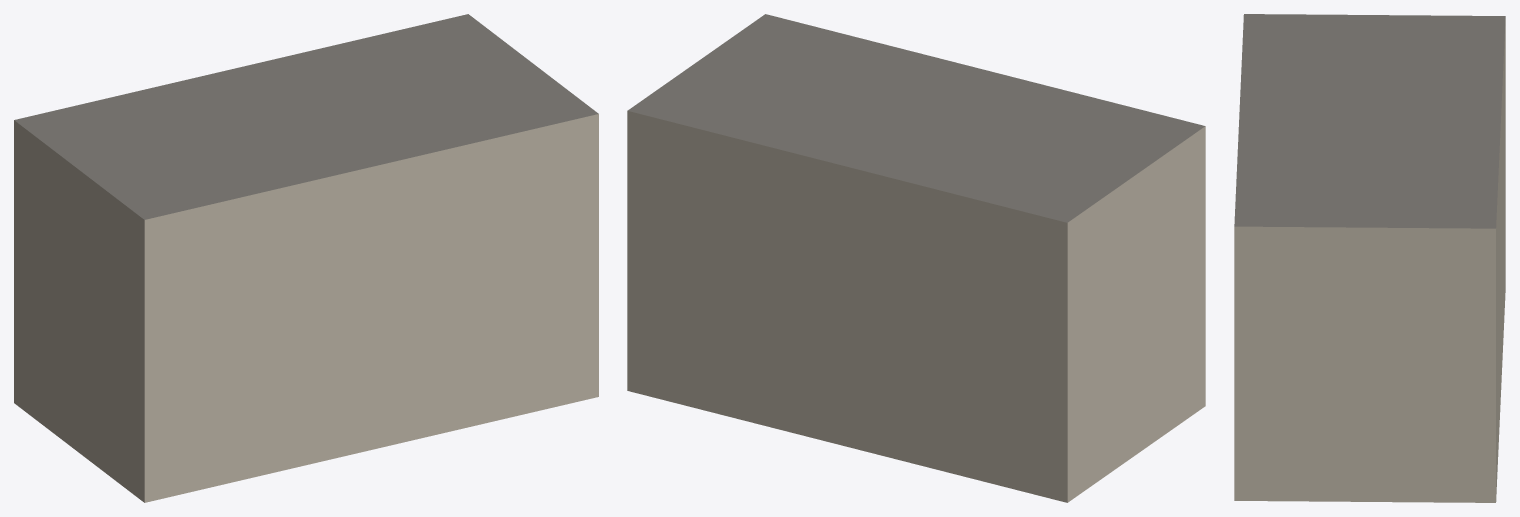
The picture shows the model from 3 angles, left to right: view 1: azimuth 30°, elevation 25°; view 2: azimuth 150°, elevation 25°; view 3: azimuth 270°, elevation 25°; orthographic projection. The views are drawn at different scales.
Visible parts, largest first — view 1: HP-w987283652; view 2: HP-w987283652; view 3: HP-w987283652.
Boxes of the visible parts, left/top/right/bottom form: HP-w987283652: left=14, top=14, right=598, bottom=502; HP-w987283652: left=627, top=14, right=1205, bottom=502; HP-w987283652: left=1234, top=14, right=1505, bottom=502.
Size of the model in its own units: 30.21 by 18 by 16.13.
